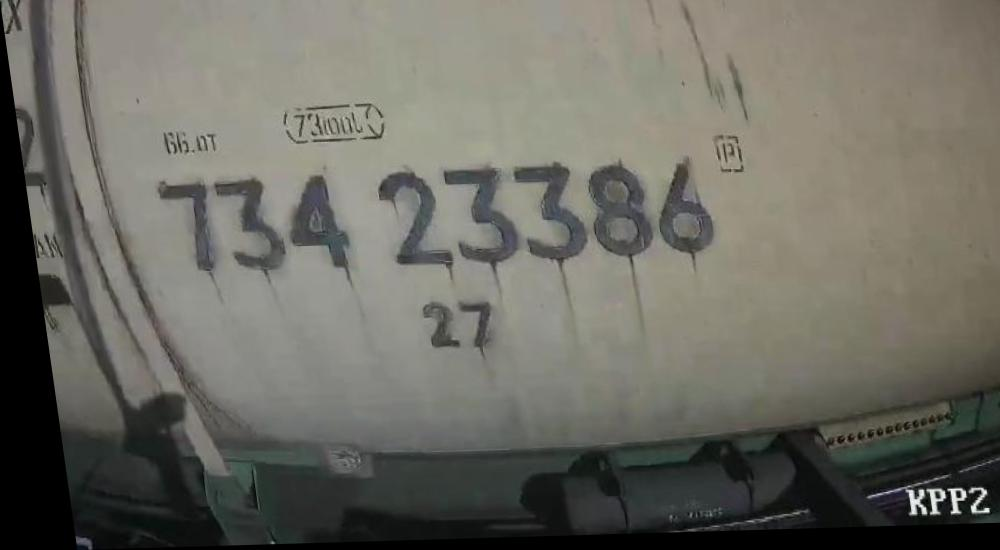Wagon-number: (147, 160, 714, 280)
